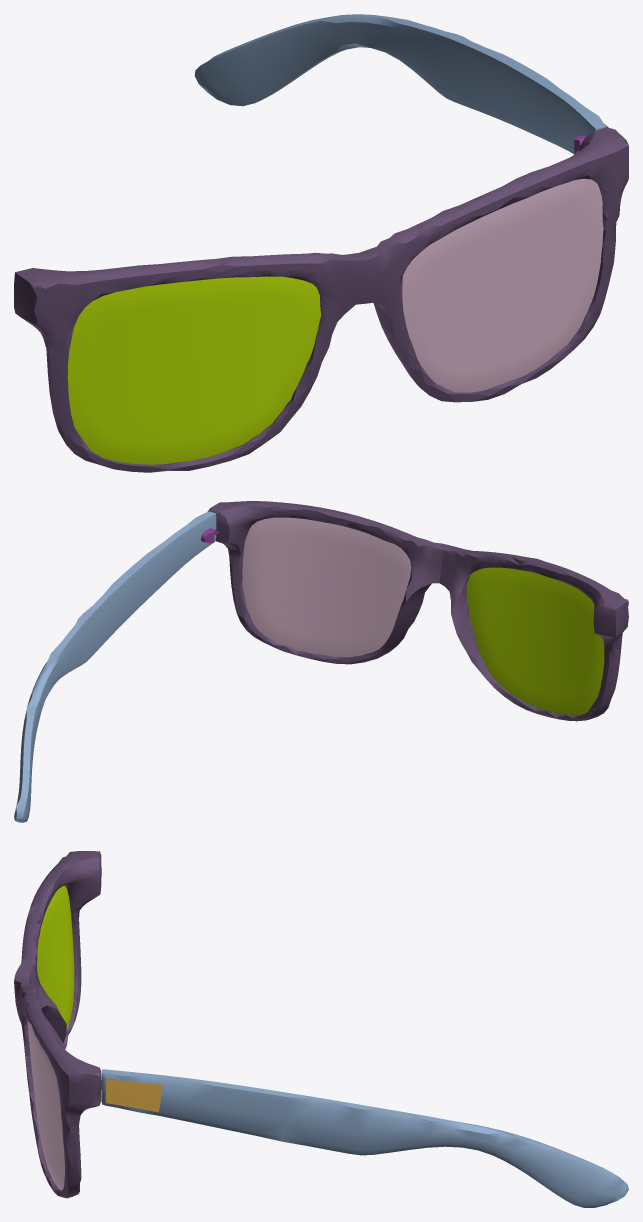
The picture shows the model from 3 angles, top to bottom: view 1: azimuth 30°, elevation 25°; view 2: azimuth 150°, elevation 25°; view 3: azimuth 270°, elevation 25°; orthographic projection. The views are drawn at different scales.
Parts seen in each view (by area): view 1: Object_4.002, split_parent_1, Object_4, split_parent_4; view 2: Object_4, split_parent_1, Object_4.002, split_parent_4; view 3: split_parent_4, split_parent_1, Object_4.002, Object_4, Object_8.
Part boxes in pixels (x1,y1,x2,y2): Object_4.002: (67, 276, 321, 464); split_parent_1: (14, 127, 628, 472); Object_4: (402, 178, 603, 392); split_parent_4: (194, 14, 606, 154); Object_4: (242, 517, 411, 657); split_parent_1: (207, 501, 628, 721); Object_4.002: (466, 567, 604, 715); split_parent_4: (14, 511, 216, 822); split_parent_4: (101, 1069, 628, 1207); split_parent_1: (14, 851, 101, 1198); Object_4.002: (37, 885, 74, 1031); Object_4: (27, 1020, 64, 1190); Object_8: (105, 1079, 162, 1112).
Size of the model in its own units: 0.8874 by 0.2952 by 1.
